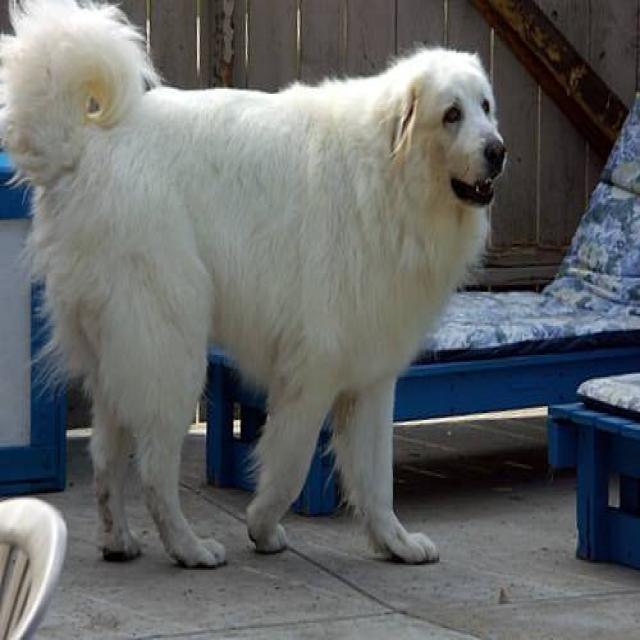dog-great_pyrenees: (1, 2, 512, 582)
